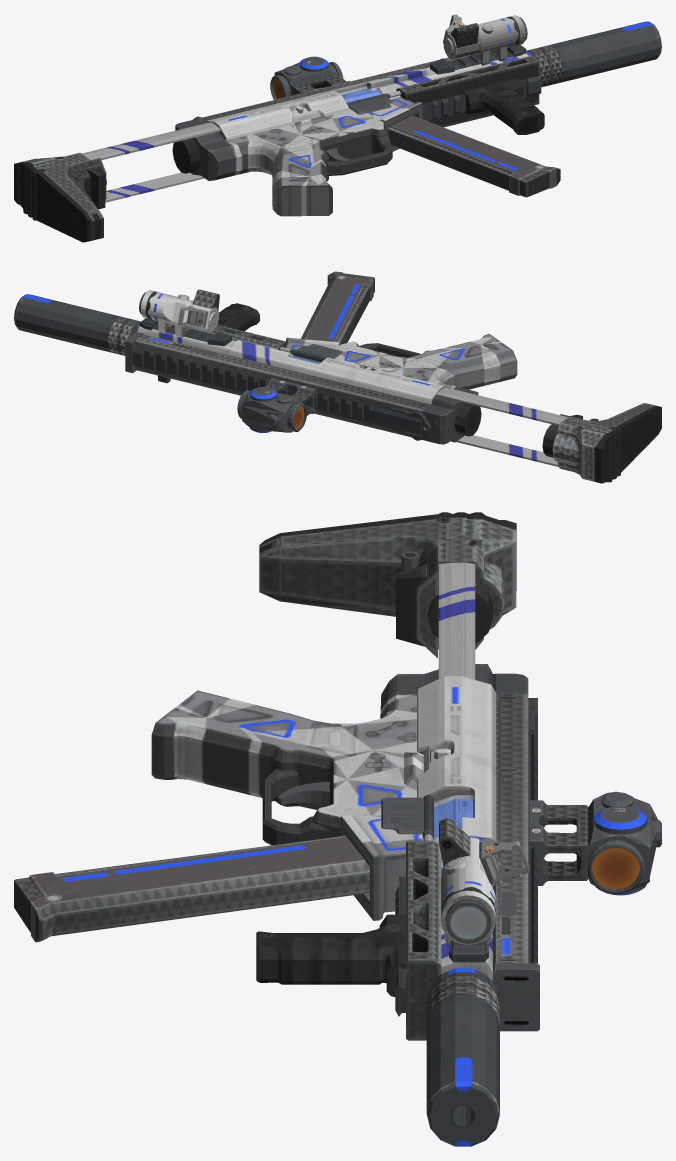
3 renders of one model, top to bottom at view 1: azimuth 30°, elevation 25°; view 2: azimuth 150°, elevation 25°; view 3: azimuth 270°, elevation 25°, orthographic. The views are drawn at different scales.
Parts seen in each view (by area): view 1: wp01b_a001a_sm.mo, wp01b_magazine001a_sm.mo, wp01b_muzzle001a_sm.mo, wp01b_attach001a_sm.mo, wp01b_scope001a_sm.mo; view 2: wp01b_a001a_sm.mo, wp01b_muzzle001a_sm.mo, wp01b_magazine001a_sm.mo, wp01b_scope001a_sm.mo, wp01b_attach001a_sm.mo; view 3: wp01b_a001a_sm.mo, wp01b_magazine001a_sm.mo, wp01b_muzzle001a_sm.mo, wp01b_scope001a_sm.mo, wp01b_attach001a_sm.mo.
Part boxes in pixels (x1,y1,x2,y2): wp01b_a001a_sm.mo: (14, 44, 544, 242); wp01b_magazine001a_sm.mo: (388, 115, 560, 197); wp01b_muzzle001a_sm.mo: (526, 21, 661, 87); wp01b_attach001a_sm.mo: (443, 14, 527, 65); wp01b_scope001a_sm.mo: (270, 56, 349, 99); wp01b_a001a_sm.mo: (125, 303, 661, 483); wp01b_muzzle001a_sm.mo: (14, 294, 140, 355); wp01b_magazine001a_sm.mo: (301, 271, 374, 344); wp01b_scope001a_sm.mo: (237, 378, 316, 432); wp01b_attach001a_sm.mo: (139, 289, 219, 337); wp01b_a001a_sm.mo: (151, 512, 539, 1040); wp01b_magazine001a_sm.mo: (14, 835, 369, 942); wp01b_muzzle001a_sm.mo: (426, 968, 499, 1146); wp01b_scope001a_sm.mo: (528, 791, 661, 895); wp01b_attach001a_sm.mo: (439, 818, 529, 944).
Size of the model in its own units: 0.583 by 0.0815 by 0.2851.
5 materials, 5 textured.
